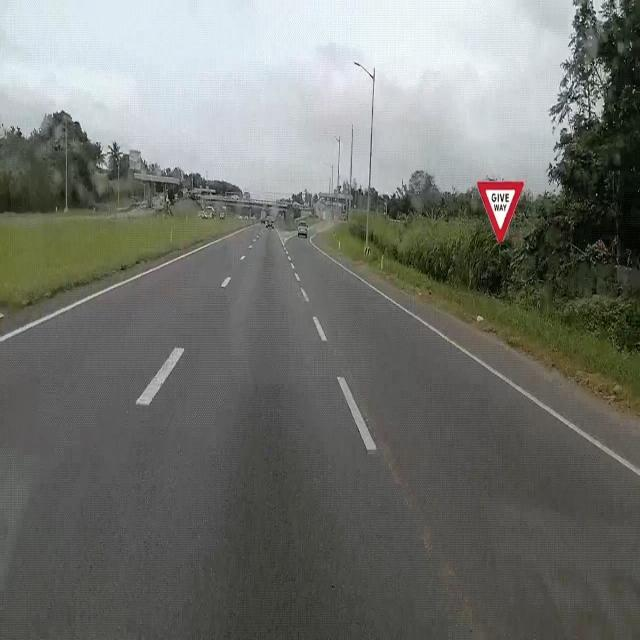Ceder-le-Passage: (473, 174, 531, 249)
